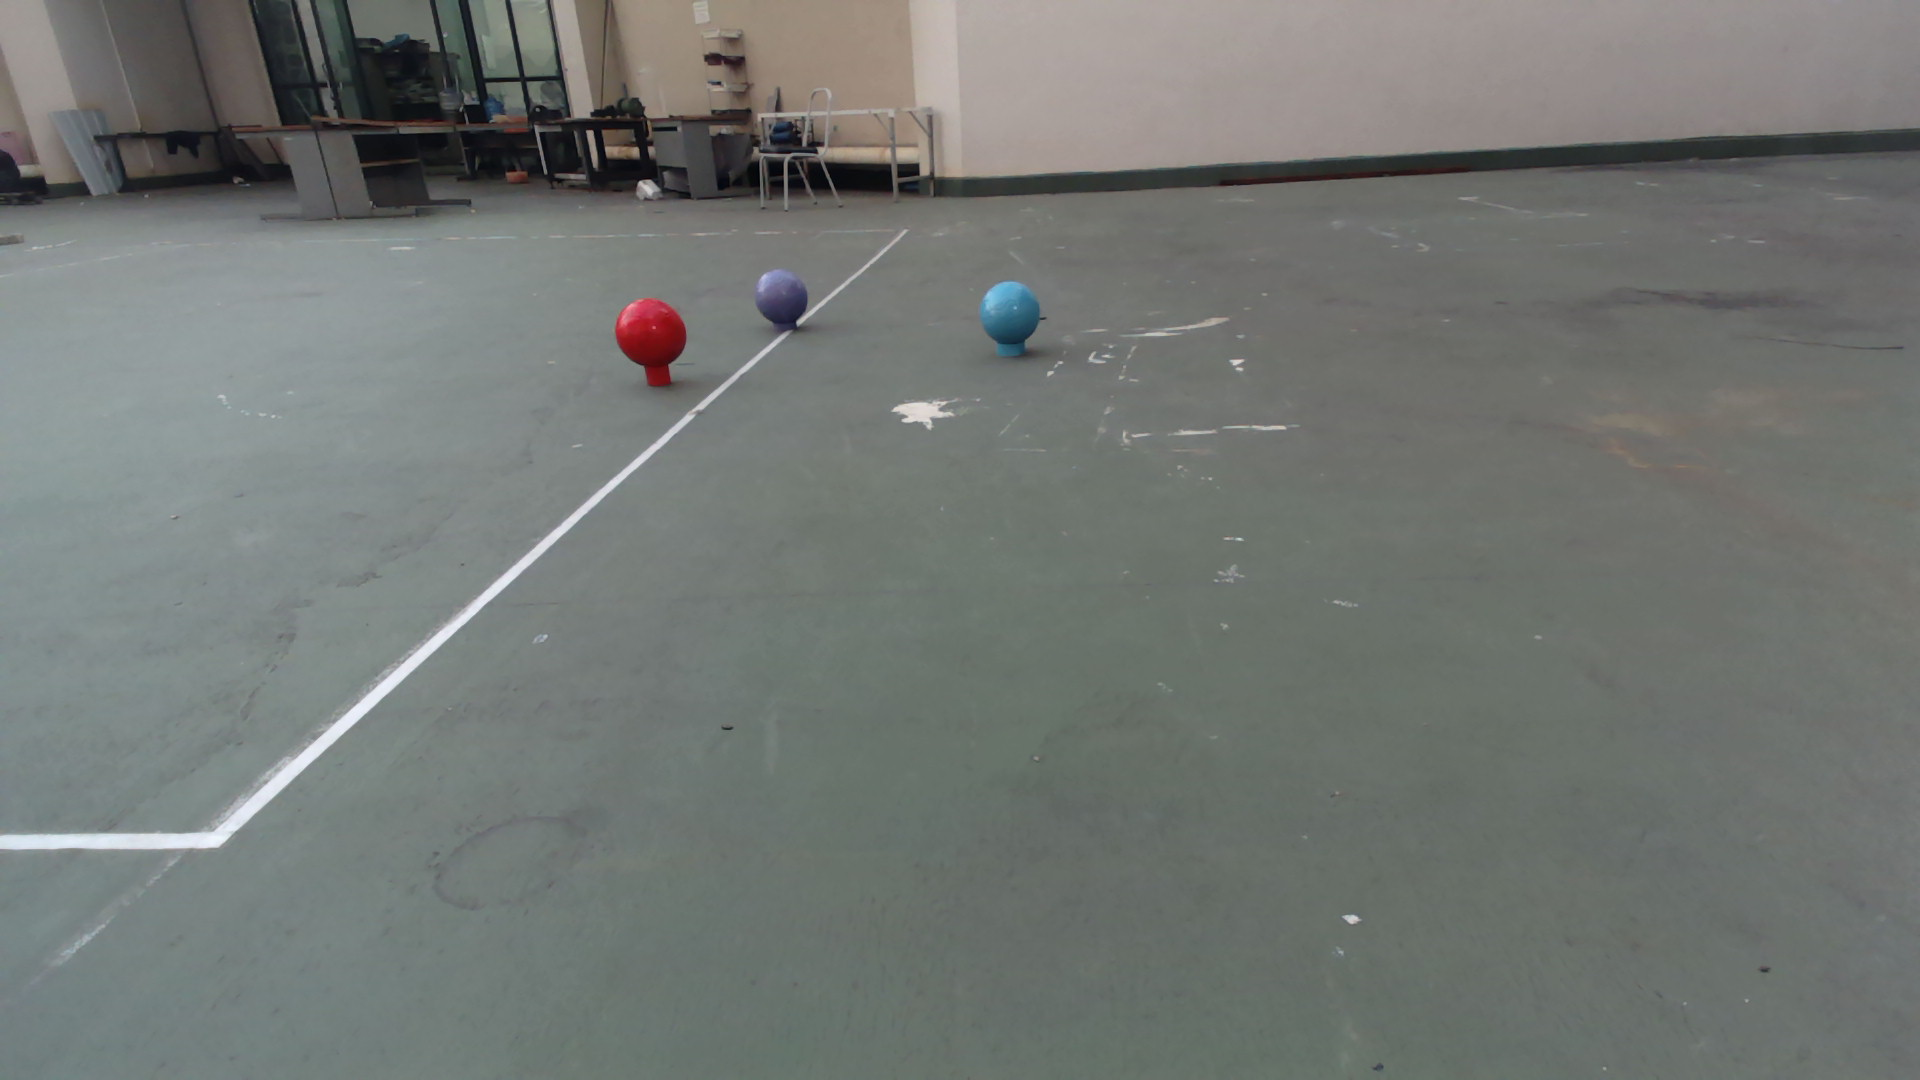Blue ball: (977, 280, 1042, 344)
Purple ball: (753, 266, 808, 326)
Red ball: (613, 295, 688, 367)
